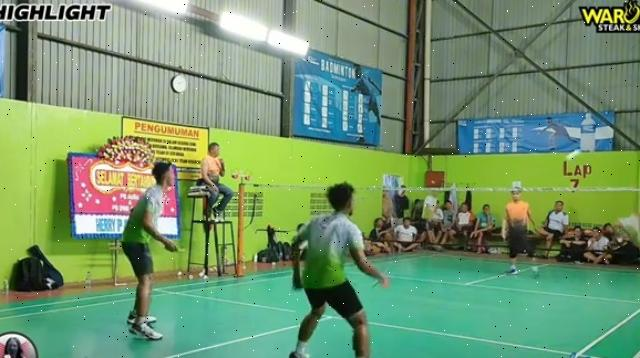Shuttlecock: (564, 150, 582, 166)
